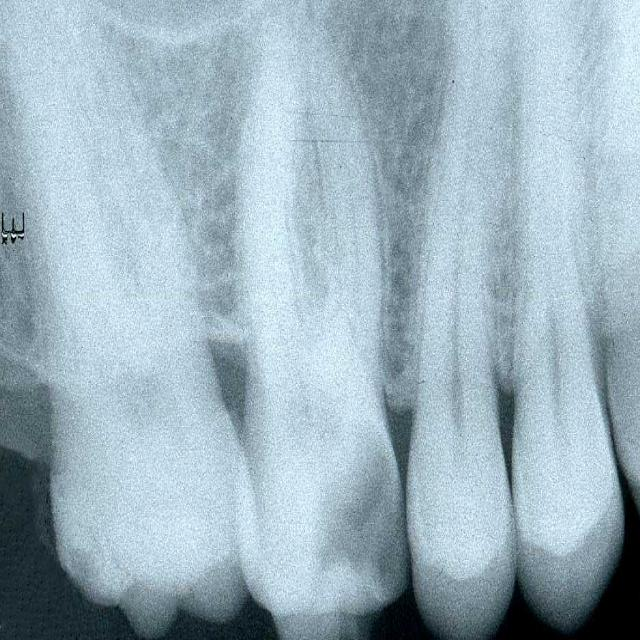Caries: (233, 32, 409, 619)
